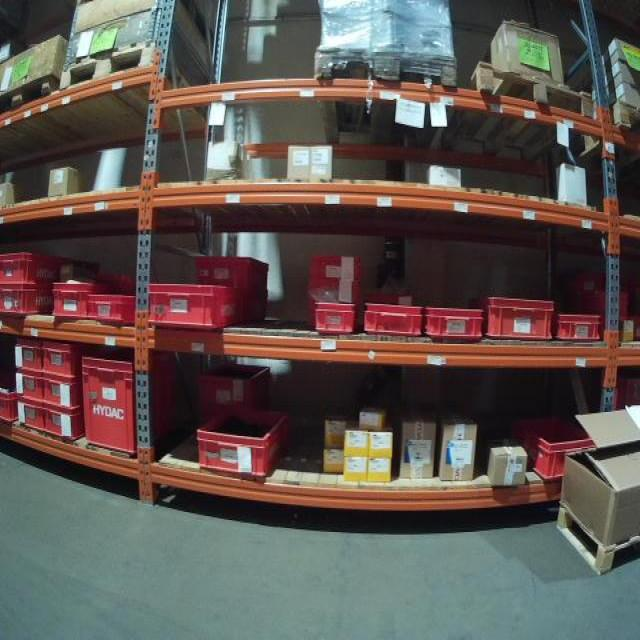pallet: (312, 49, 454, 158), (443, 62, 592, 162), (64, 45, 208, 138), (555, 503, 640, 577), (586, 102, 640, 175)
small_load_carrier: (83, 359, 178, 459), (193, 399, 295, 477), (518, 413, 606, 483), (144, 287, 272, 331), (198, 360, 277, 416), (479, 297, 554, 342), (4, 253, 98, 285), (48, 275, 109, 322), (191, 254, 274, 285), (364, 301, 427, 339), (424, 305, 487, 343), (313, 301, 358, 347), (86, 294, 141, 326), (40, 340, 88, 376), (553, 309, 606, 341), (43, 378, 90, 412), (44, 409, 86, 443), (1, 287, 48, 317), (11, 397, 45, 431), (12, 341, 42, 372), (10, 372, 43, 398), (0, 389, 10, 423)
